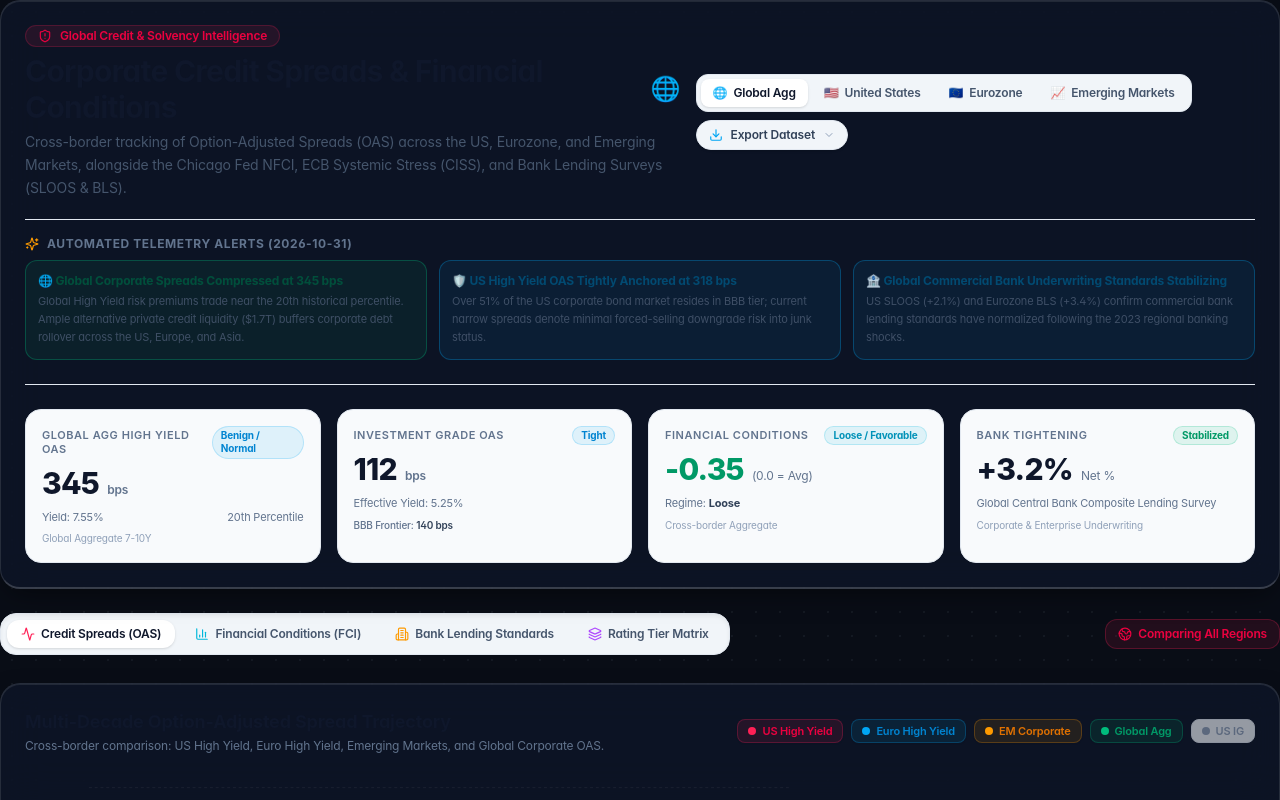
Scenario: CreditMarketRadar Component › switches to Bank Lending view and renders international comparison and sector list
Step 1. Click the button "Bank Lending Standards" → x=475, y=634, box [381,620,568,648]
(page scrolled)
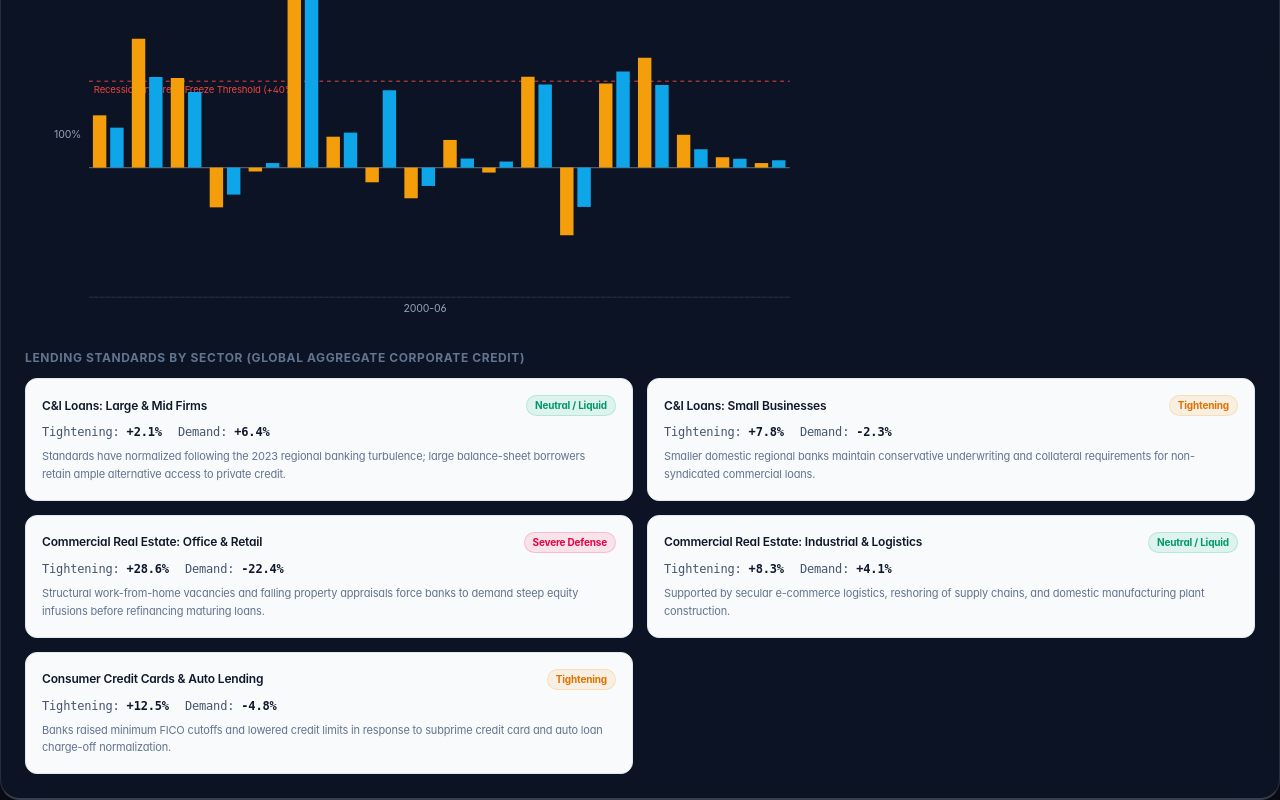
Expected: the heading "Lending Standards by Sector" is shown, [25,350,252,365]
Expected: the text "C&I Loans: Large & Mid Firms" is shown, [42,398,207,414]
